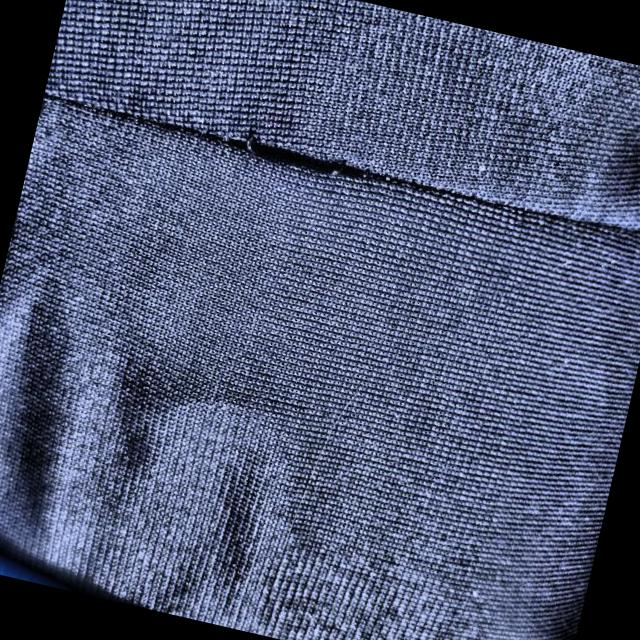gray stitch: (138, 64, 440, 236)
